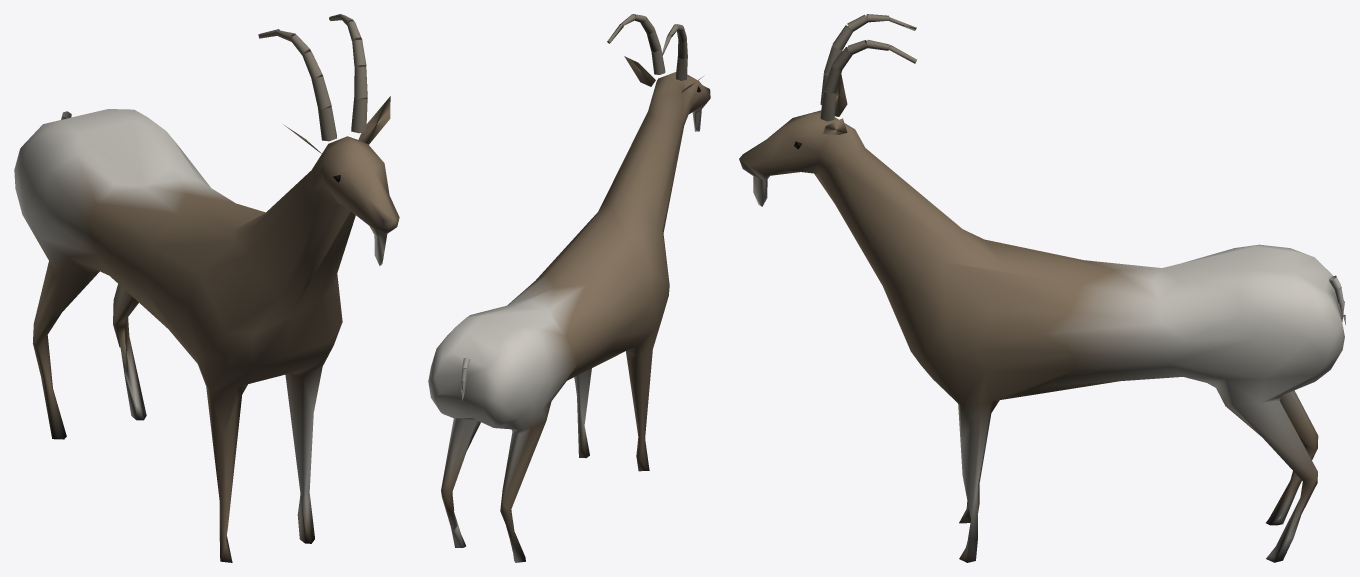
Rendered from ziege.glb.
The picture shows the model from 3 angles, left to right: view 1: azimuth 30°, elevation 25°; view 2: azimuth 150°, elevation 25°; view 3: azimuth 270°, elevation 25°; orthographic projection. The views are drawn at different scales.
Parts seen in each view (by area): view 1: lack; view 2: lack; view 3: lack.
Part boxes in pixels (x1,y1,x2,y2): lack: [14, 14, 399, 562]; lack: [428, 14, 710, 562]; lack: [739, 14, 1345, 562].
Size of the model in its own units: 0.3285 by 1.28 by 1.37.
